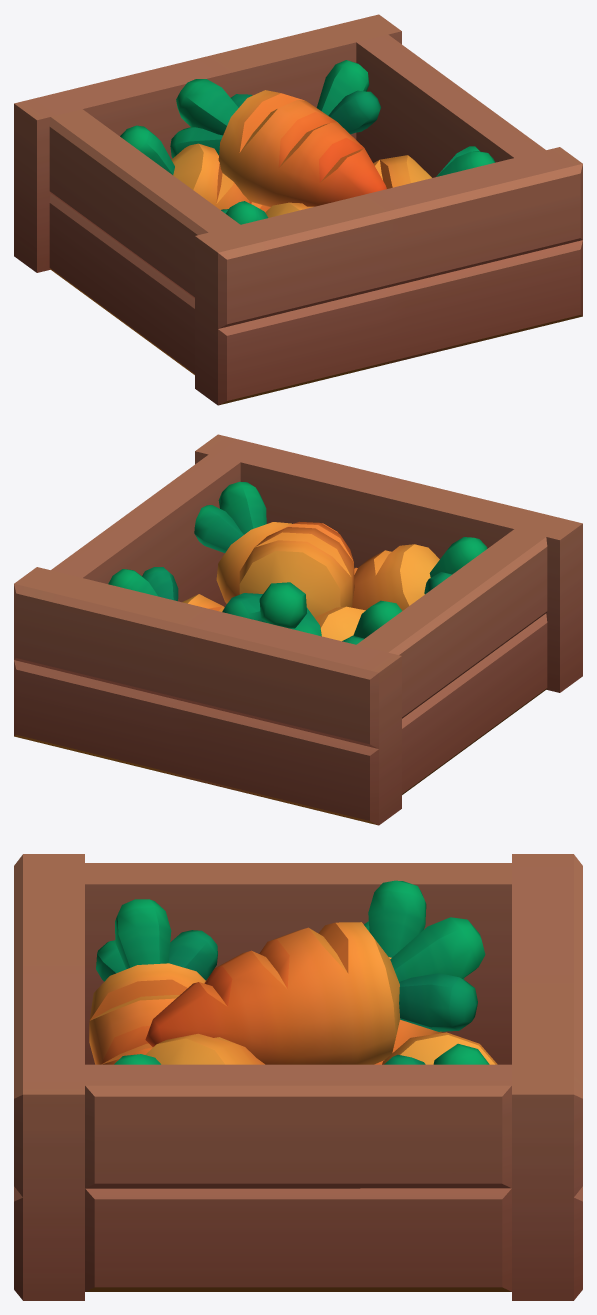
The model's file is kay-caixa-cenouras.gltf.
The picture shows the model from 3 angles, top to bottom: view 1: azimuth 30°, elevation 25°; view 2: azimuth 150°, elevation 25°; view 3: azimuth 270°, elevation 25°; orthographic projection. The views are drawn at different scales.
Visible parts, largest first — view 1: crate_carrots; view 2: crate_carrots; view 3: crate_carrots.
Part boxes in pixels (x1,y1,x2,y2): crate_carrots: [14, 14, 582, 405]; crate_carrots: [14, 434, 582, 825]; crate_carrots: [14, 854, 582, 1300].
Size of the model in its own units: 1.3 by 0.6131 by 1.3.
1 material, 1 textured.
